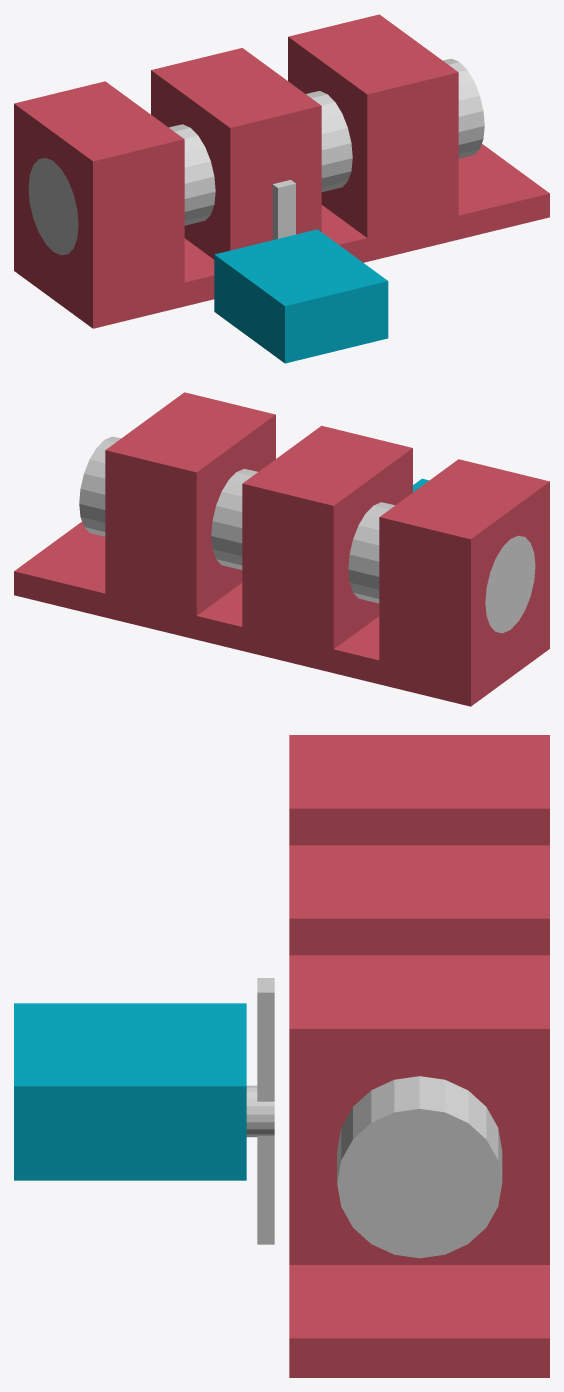
Rendered from Spectacular Curcan-Jaban.glb.
3 renders of one model, top to bottom at view 1: azimuth 30°, elevation 25°; view 2: azimuth 150°, elevation 25°; view 3: azimuth 270°, elevation 25°, orthographic. The views are drawn at different scales.
Visible parts, largest first — view 1: Mesh_Mesh_head_geo.001_lambert2SG.001; view 2: Mesh_Mesh_head_geo.001_lambert2SG.001; view 3: Mesh_Mesh_head_geo.001_lambert2SG.001.
Part boxes in pixels (<box>): Mesh_Mesh_head_geo.001_lambert2SG.001: <box>14,14,549,363</box>; Mesh_Mesh_head_geo.001_lambert2SG.001: <box>14,392,549,706</box>; Mesh_Mesh_head_geo.001_lambert2SG.001: <box>14,735,549,1377</box>.
Bounding box in the file's own units: 100 × 45 × 61.7.
